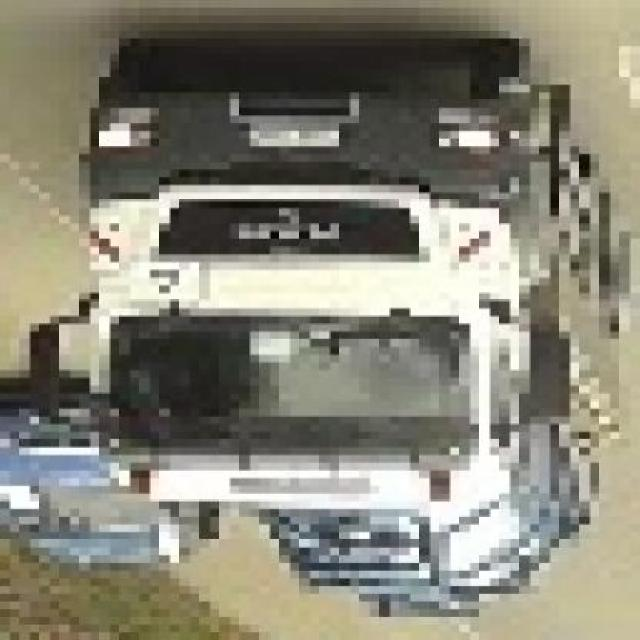truck: (32, 24, 640, 633)
